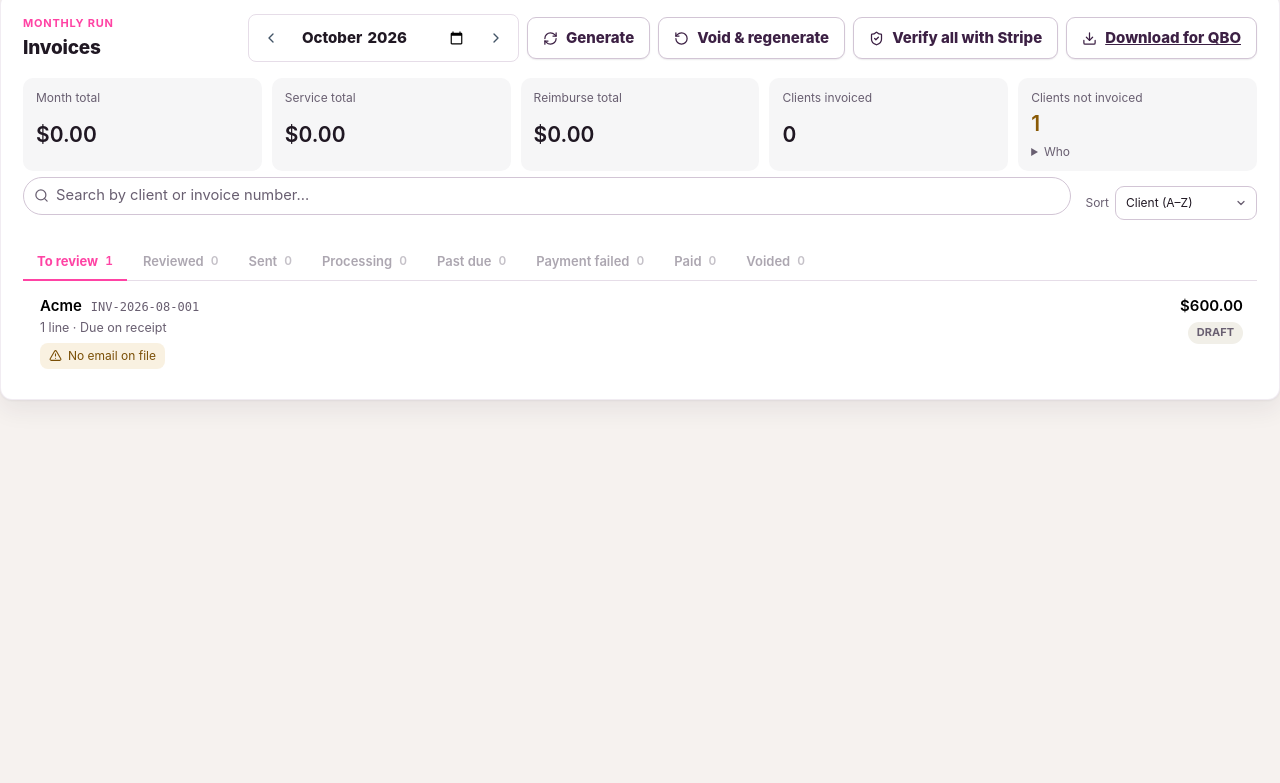
Test: InvoiceMonthRun — the retainer credit › offers nothing when the firm holds no retainer for this client
Click the text "INV-2026-08-001": x=145, y=308 [91,299,199,317]
(page scrolled)
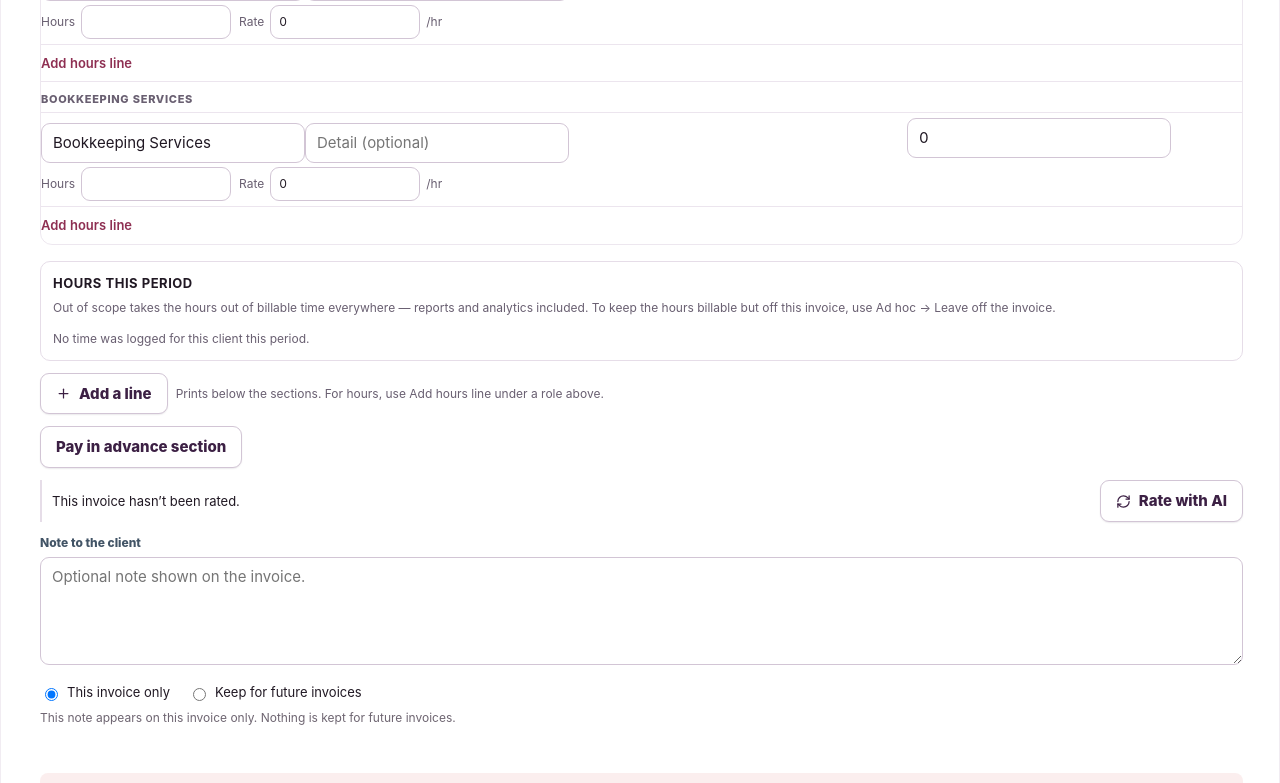
Result: the button "Add a line" is shown at [40,373,168,414]
